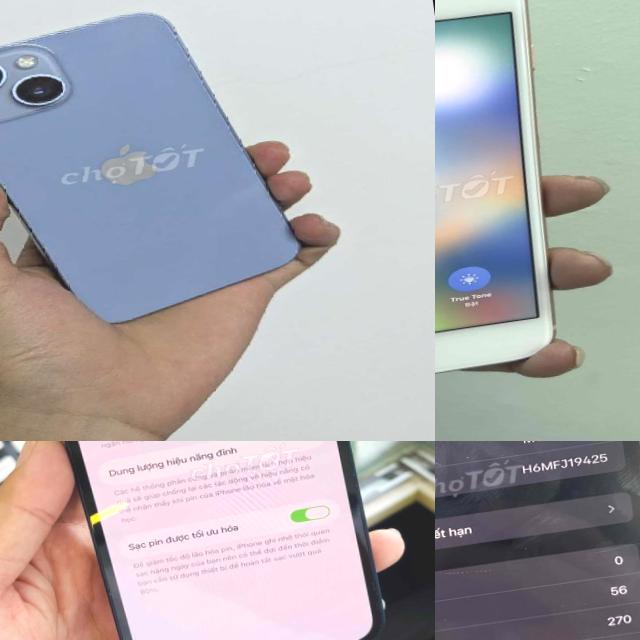gen_12_13: (12, 441, 406, 640)
gen_14: (0, 0, 321, 345)
gen_16: (435, 441, 640, 640)
gen_7_8: (435, 0, 581, 417)
